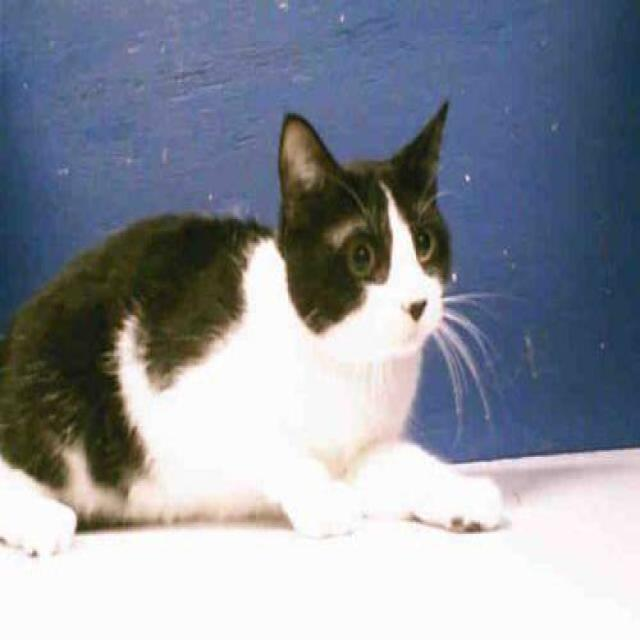Cat: (274, 102, 471, 376)
